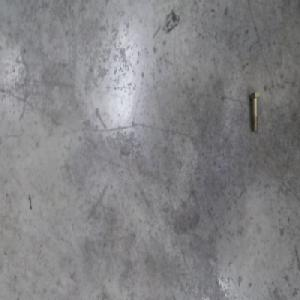Bolt: (250, 91, 261, 132)
